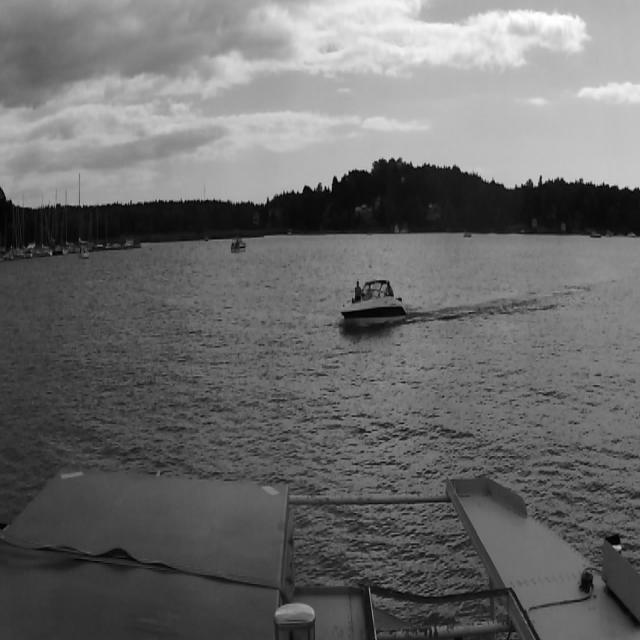ship: (338, 271, 412, 327), (33, 195, 53, 256), (17, 194, 33, 258), (78, 173, 90, 258), (54, 189, 68, 255), (231, 238, 246, 252), (462, 228, 472, 238)
